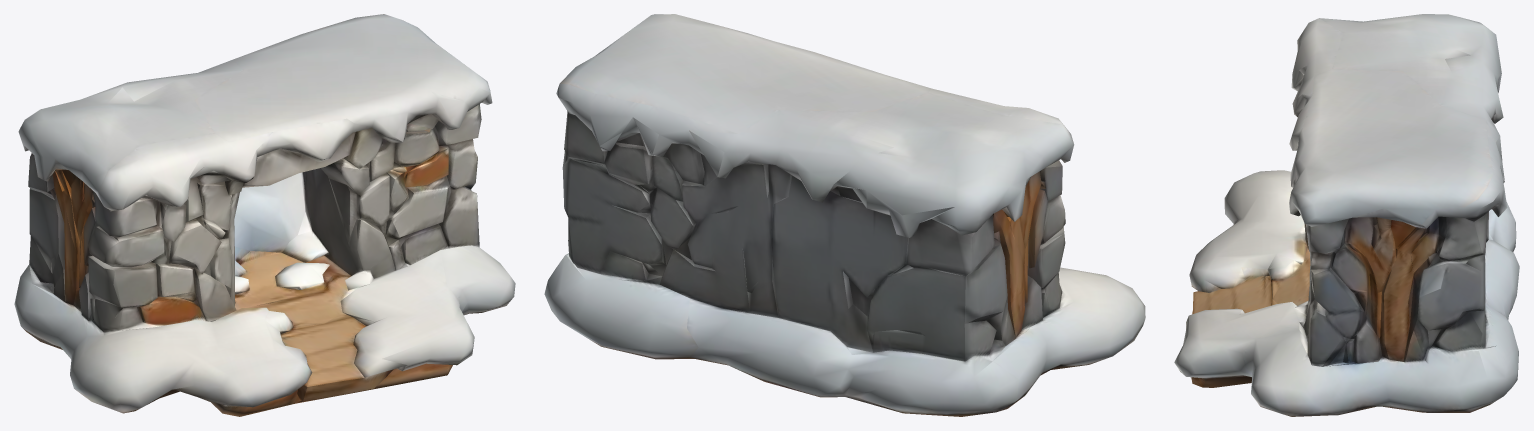
Rendered from m2SnowLedgeV2.glb.
The picture shows the model from 3 angles, left to right: view 1: azimuth 30°, elevation 25°; view 2: azimuth 150°, elevation 25°; view 3: azimuth 270°, elevation 25°; orthographic projection. The views are drawn at different scales.
Visible parts, largest first — view 1: model; view 2: model; view 3: model.
Part boxes in pixels (x1,y1,x2,y2): model: [14, 14, 515, 416]; model: [544, 14, 1145, 416]; model: [1174, 14, 1519, 416].
Size of the model in its own units: 1.9 by 1.01 by 1.29.
1 material, 1 textured.
